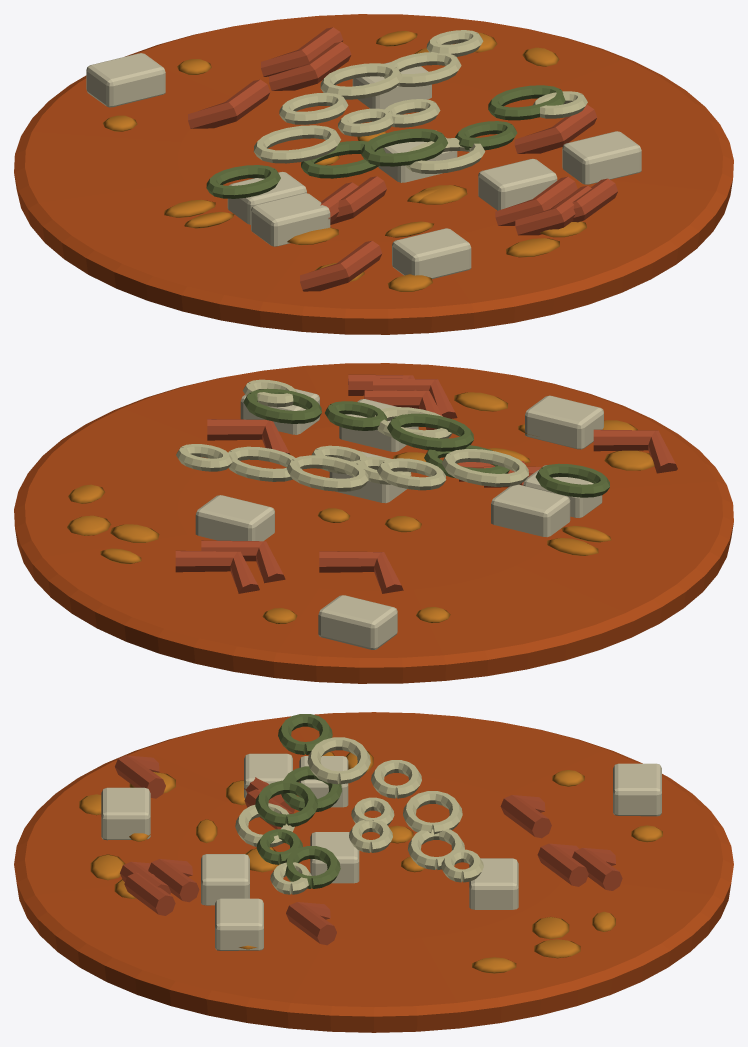
Rendered from stew.glb.
The picture shows the model from 3 angles, top to bottom: view 1: azimuth 30°, elevation 25°; view 2: azimuth 150°, elevation 25°; view 3: azimuth 270°, elevation 25°; orthographic projection.
Parts seen in each view (by area): view 1: stew; view 2: stew; view 3: stew.
Boxes of the visible parts, x1,y1,x2,y2 form: stew: (14, 14, 733, 334); stew: (14, 363, 733, 683); stew: (14, 712, 733, 1032).
Bounding box in the file's own units: 0.264 × 0.0359 × 0.264.
